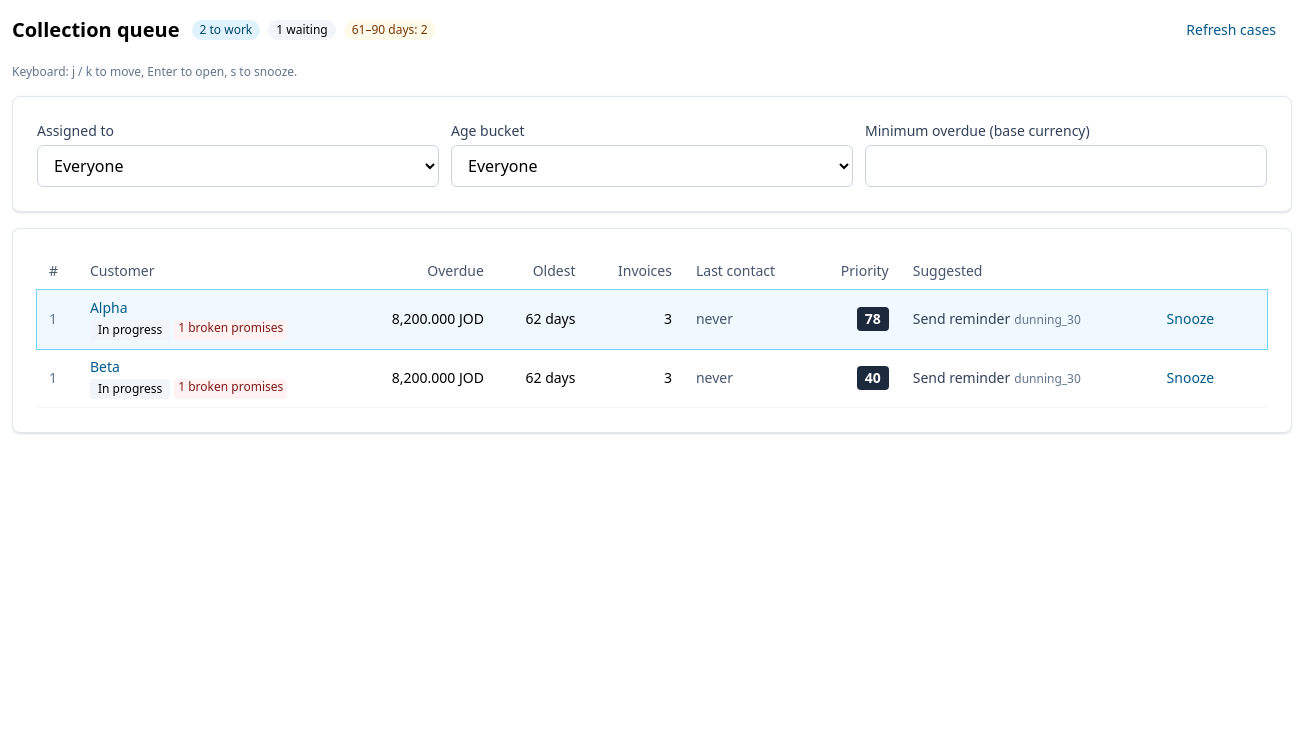
collection queue (slice 5 AC-17) › renders the server ranking with an expandable breakdown, and navigates with j / k / Enter / s
Expected: the number of rows with test id "queue-row" is 2, [37,290,1267,348]; [37,348,1267,408]
Expected: the row with test id "queue-row" shows "Alpha", [90,298,128,318]
Click the button with test id "priority-score" showing "78": (873, 319) [857,307,889,331]
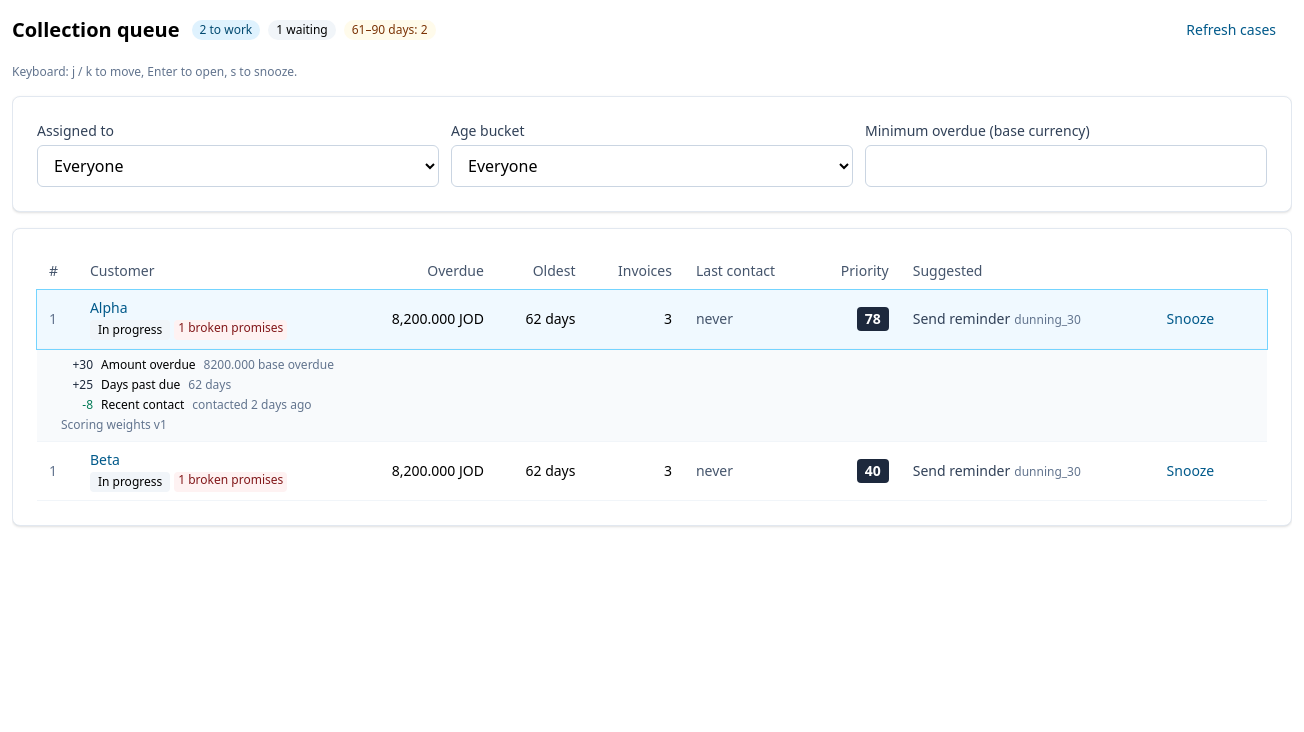
Expected: the list with test id "factor-breakdown" shows "Scoring weights v1", [61,416,167,433]
Press j
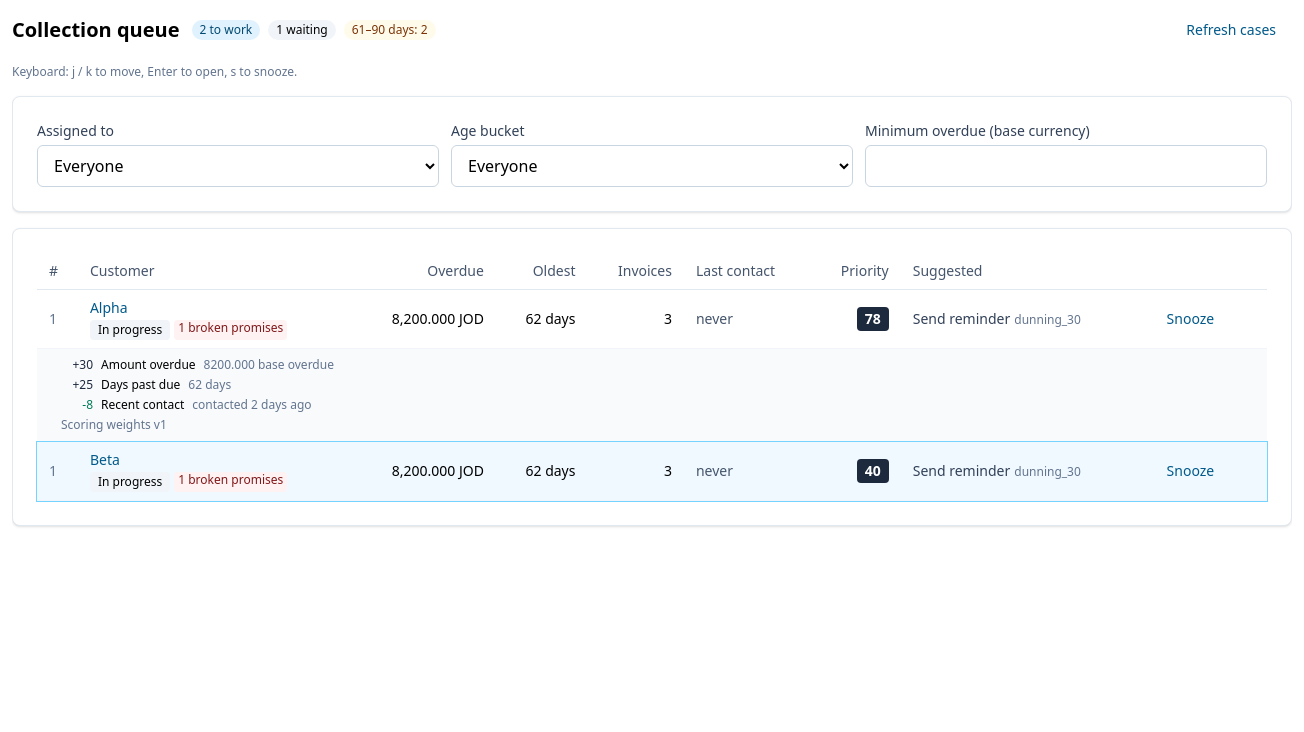
Press k
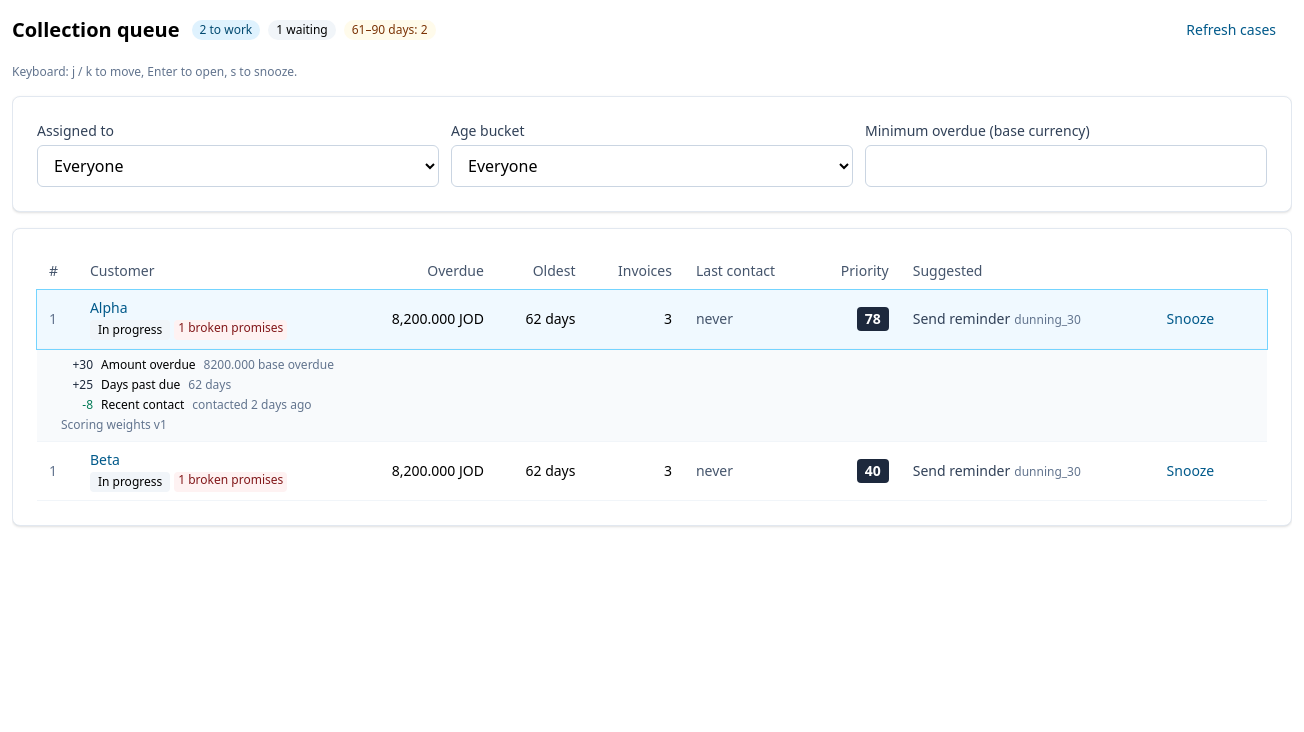
Press Enter
Press s
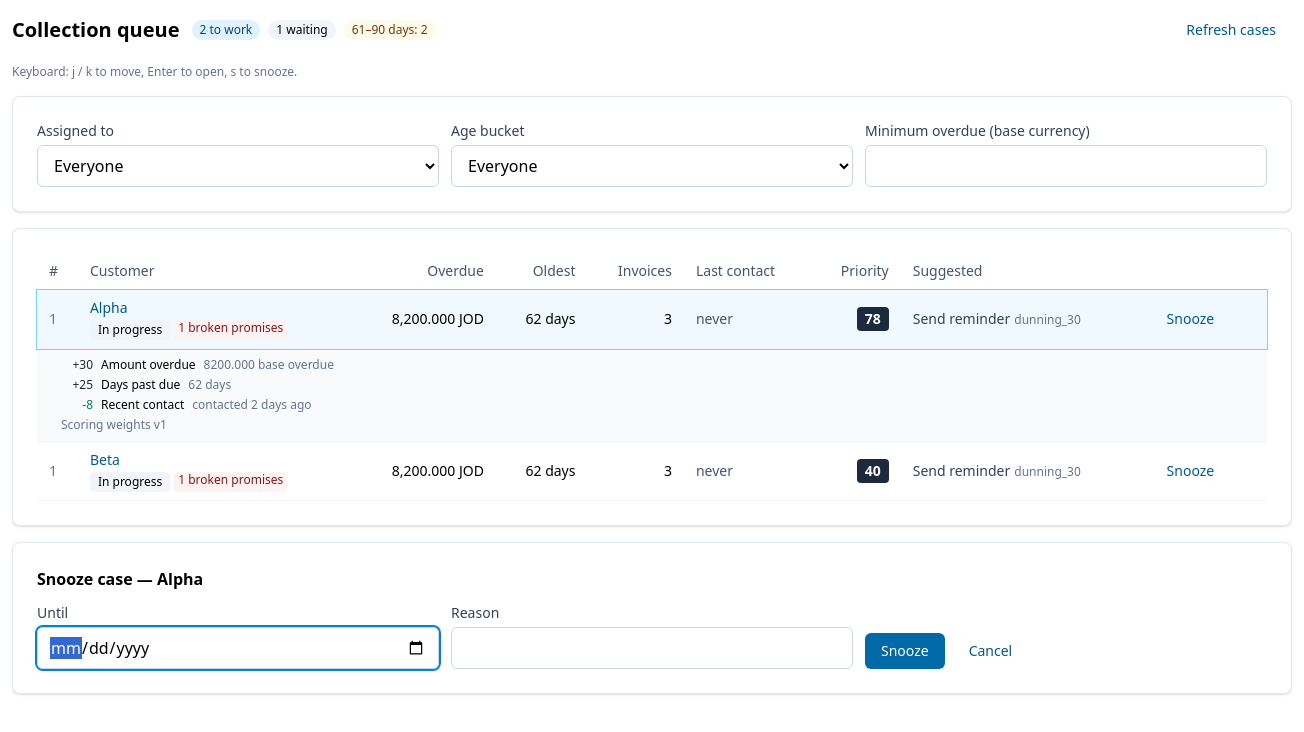
Expected: the date field with test id "snooze-until" is shown, [37,627,439,669]
